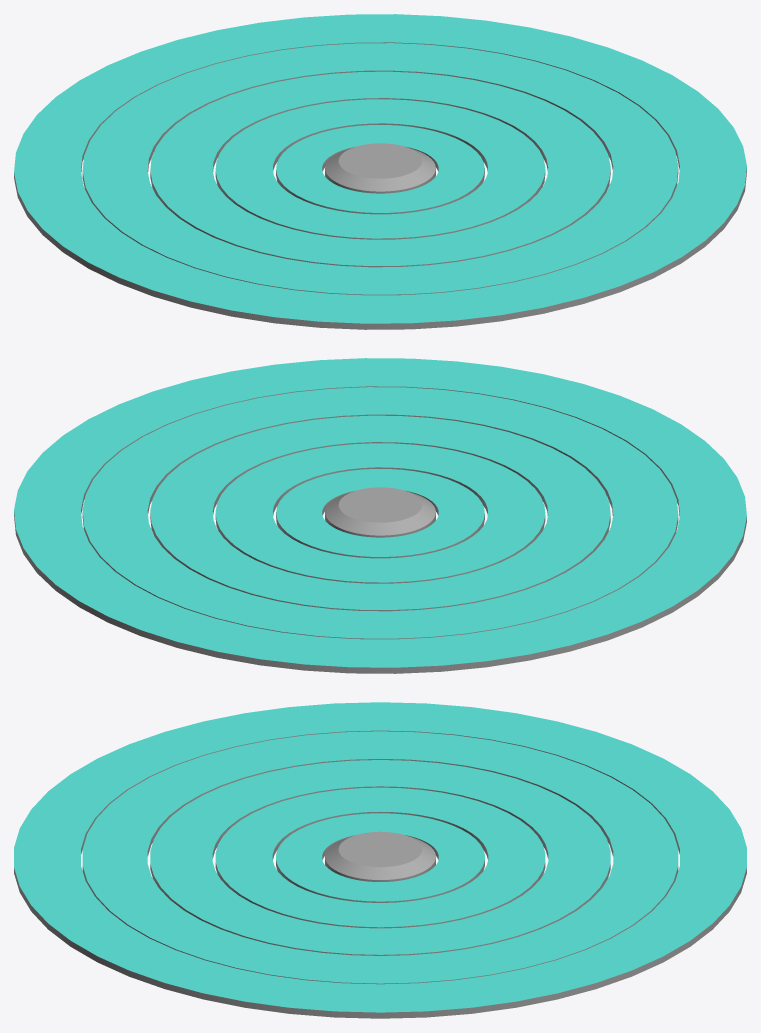
File: Platforms.fbx
3 views of the same model, one above another, from view 1: azimuth 30°, elevation 25°; view 2: azimuth 150°, elevation 25°; view 3: azimuth 270°, elevation 25° (orthographic).
Parts seen in each view (by area): view 1: Ring1, Ring2, Ring3, Ring4, Ring5, Center; view 2: Ring1, Ring2, Ring3, Ring4, Ring5, Center; view 3: Ring1, Ring2, Ring3, Ring4, Ring5, Center.
Boxes of the visible parts, <box> form: Ring1: <box>14,14,746,329</box>; Ring2: <box>82,43,678,295</box>; Ring3: <box>150,71,610,267</box>; Ring4: <box>215,99,545,239</box>; Ring5: <box>276,125,484,214</box>; Center: <box>325,143,435,193</box>; Ring1: <box>14,358,746,673</box>; Ring2: <box>82,387,678,639</box>; Ring3: <box>150,415,610,611</box>; Ring4: <box>215,443,545,583</box>; Ring5: <box>276,469,484,558</box>; Center: <box>325,487,435,537</box>; Ring1: <box>14,702,746,1018</box>; Ring2: <box>82,731,678,984</box>; Ring3: <box>150,760,610,955</box>; Ring4: <box>215,787,545,928</box>; Ring5: <box>276,813,484,902</box>; Center: <box>325,831,435,881</box>.
Size of the model in its own units: 3484 by 77.58 by 3477.
